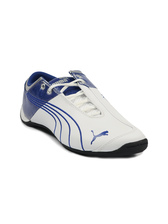shoes: (16, 62, 151, 158)
